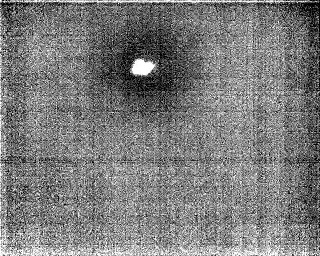AIRPLANE: (128, 54, 157, 79)
